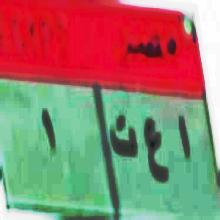1: (36, 96, 61, 160)
ain: (142, 116, 169, 192)
alif: (172, 116, 198, 171)
taa: (106, 115, 138, 166)
